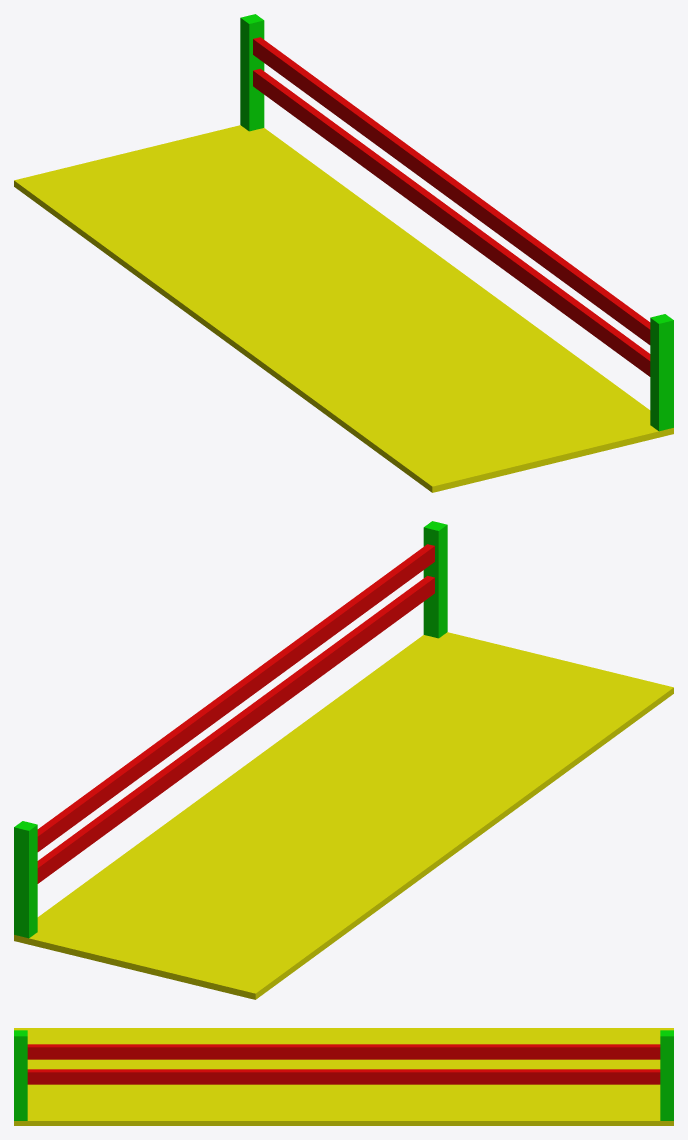
File: WalkwayF_SM (3).fbx
3 renders of one model, top to bottom at view 1: azimuth 30°, elevation 25°; view 2: azimuth 150°, elevation 25°; view 3: azimuth 270°, elevation 25°, orthographic. The views are drawn at different scales.
Visible parts, largest first — view 1: polySurface16; view 2: polySurface16; view 3: polySurface16.
Part boxes in pixels (box(x1,y1,x2,y2)): polySurface16: box(14, 14, 673, 492); polySurface16: box(14, 521, 673, 999); polySurface16: box(14, 1028, 673, 1125).
Bounding box in the file's own units: 8 × 3.6 × 24.
